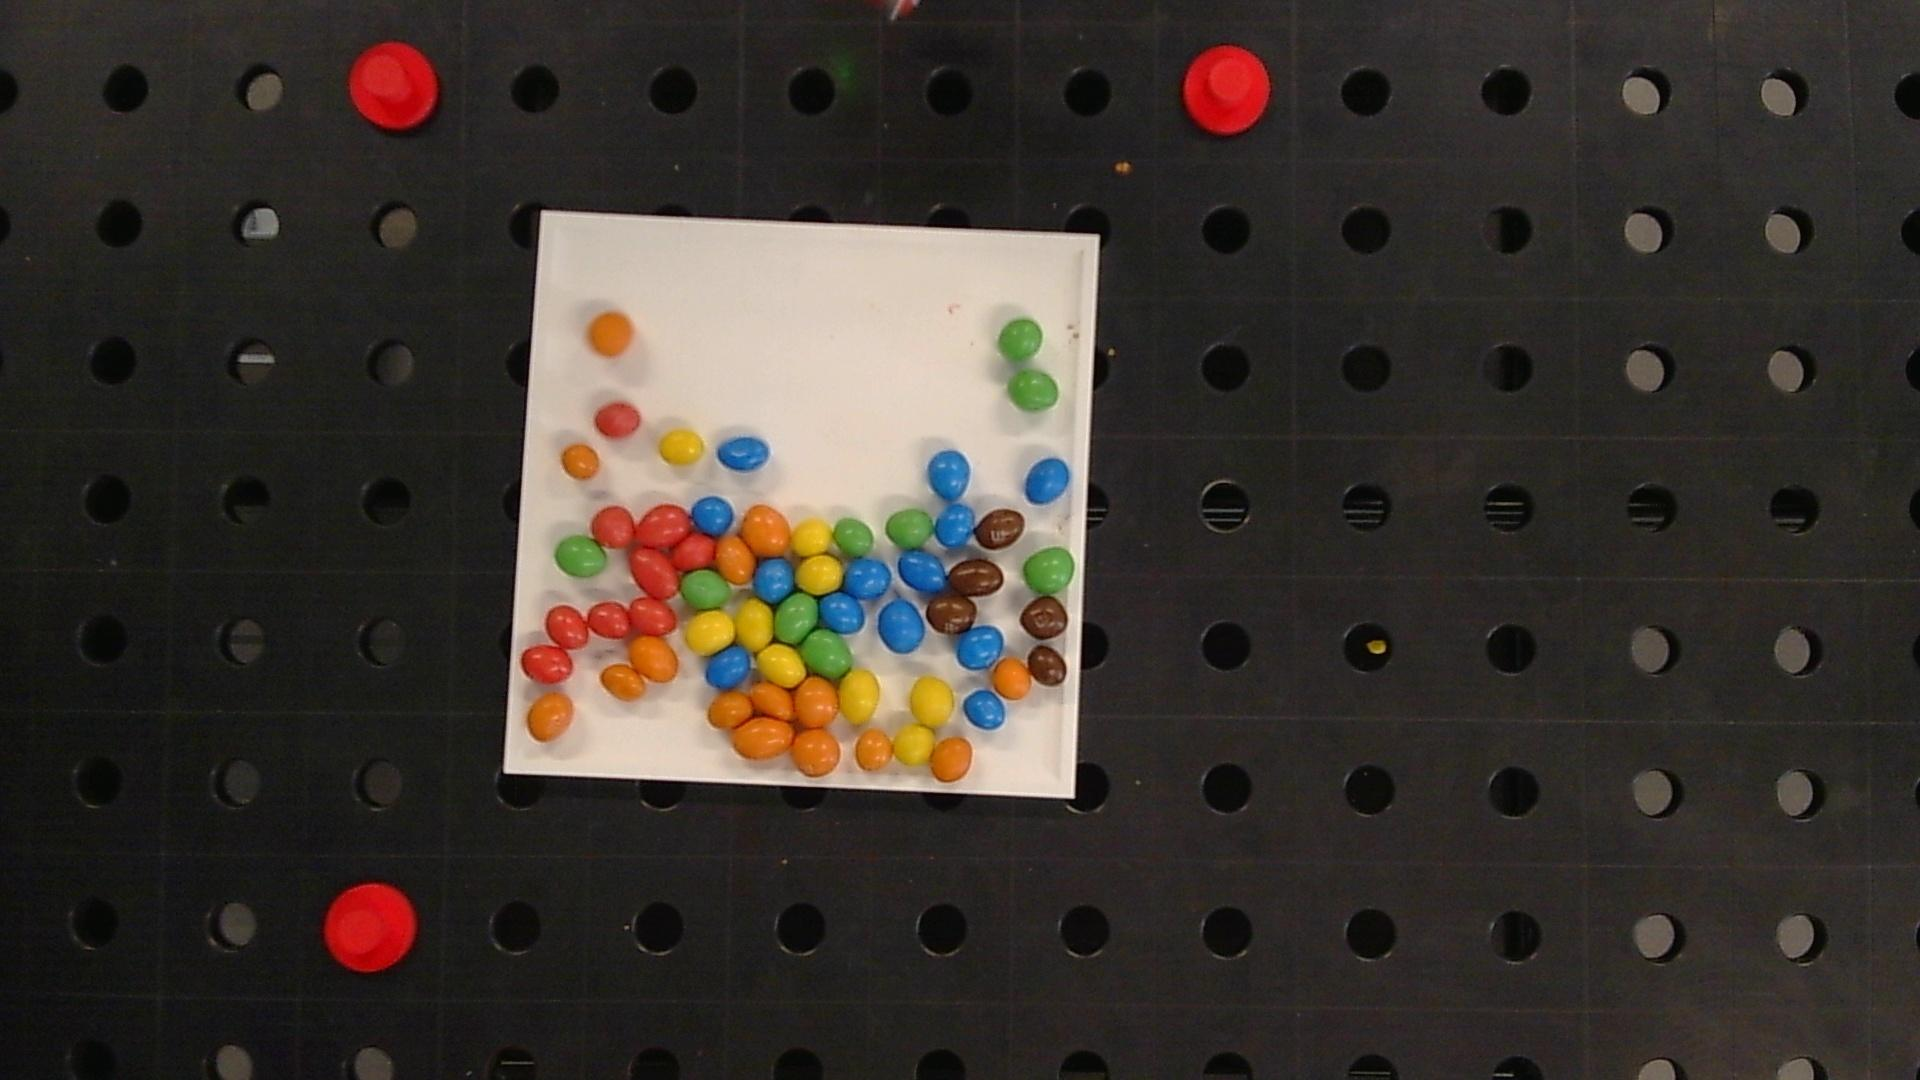blue: (878, 599, 924, 653), (956, 625, 1004, 670), (928, 451, 971, 500), (843, 558, 891, 599), (1026, 458, 1069, 502), (898, 551, 947, 591), (717, 435, 770, 471), (705, 647, 750, 688), (820, 592, 866, 632), (754, 558, 795, 601), (935, 504, 976, 547), (963, 691, 1006, 729), (691, 496, 735, 534)
brown: (947, 559, 1005, 596), (975, 509, 1025, 550), (927, 593, 976, 634), (1021, 597, 1067, 640), (1027, 645, 1067, 686)
green: (802, 630, 852, 676), (1023, 549, 1075, 593), (555, 535, 608, 578), (774, 593, 818, 642), (1007, 371, 1059, 410), (886, 509, 934, 550), (998, 319, 1043, 361), (682, 570, 729, 609), (833, 517, 874, 558)
orange: (732, 717, 794, 758), (742, 505, 790, 555), (791, 729, 841, 775), (527, 694, 574, 741), (630, 637, 678, 682), (795, 678, 839, 727), (715, 534, 754, 584), (589, 313, 633, 356), (931, 737, 973, 782), (600, 663, 646, 700), (855, 729, 894, 770), (993, 657, 1031, 699), (708, 692, 752, 729), (752, 682, 794, 719), (560, 444, 599, 479)
red: (630, 547, 678, 599), (636, 504, 691, 547), (521, 645, 574, 683), (546, 605, 589, 649), (629, 597, 676, 634), (591, 506, 634, 546), (595, 402, 641, 438), (587, 603, 632, 638), (673, 533, 715, 567)
yellow: (839, 670, 881, 724), (910, 676, 953, 727), (684, 611, 735, 654), (758, 645, 804, 686), (736, 600, 773, 647), (894, 724, 936, 765), (798, 555, 843, 593), (659, 430, 704, 464), (791, 518, 832, 555)
